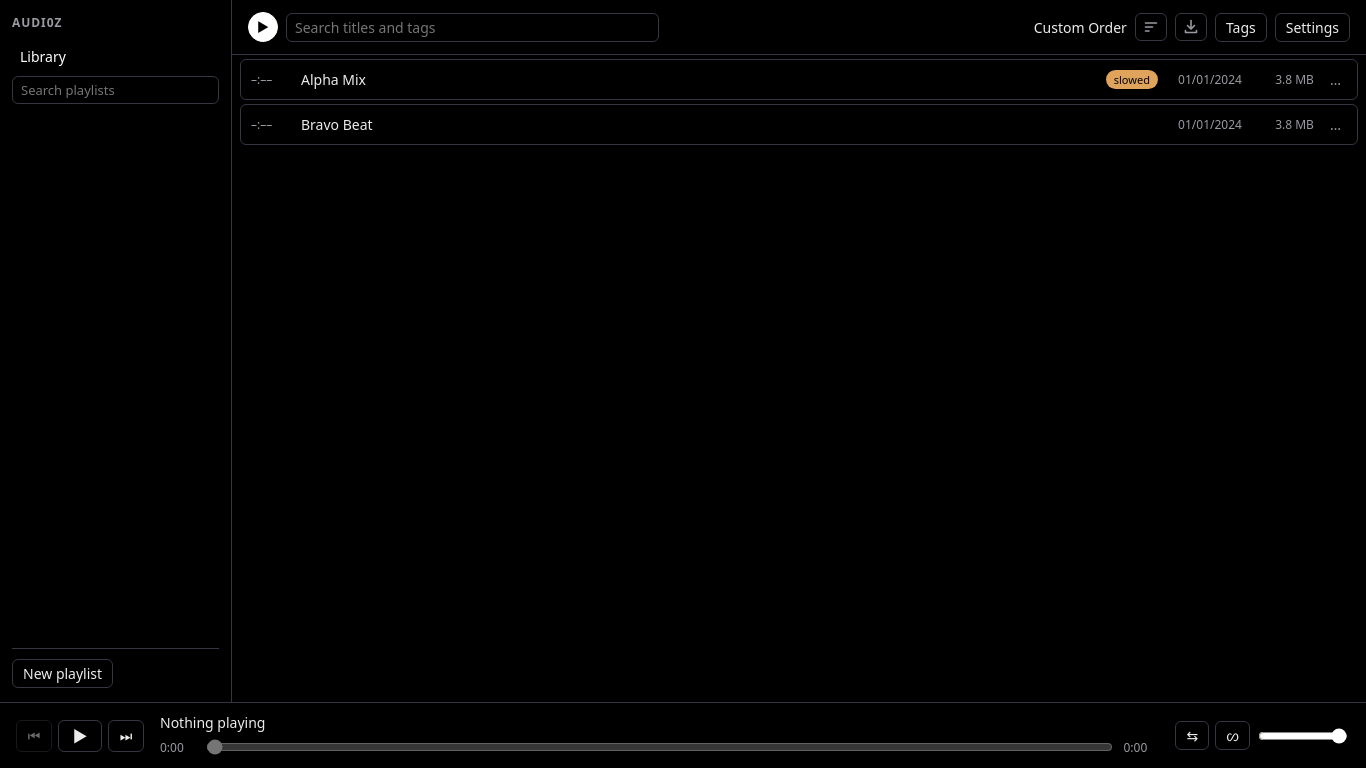
SongRow tag menu › draws the menu tag items as the same chips the row wears
The width and height of the screenshot is (1366, 768).
Click the button named "Options for Alpha Mix". click: (1335, 80)
box: left=1324, top=71, right=1347, bottom=89
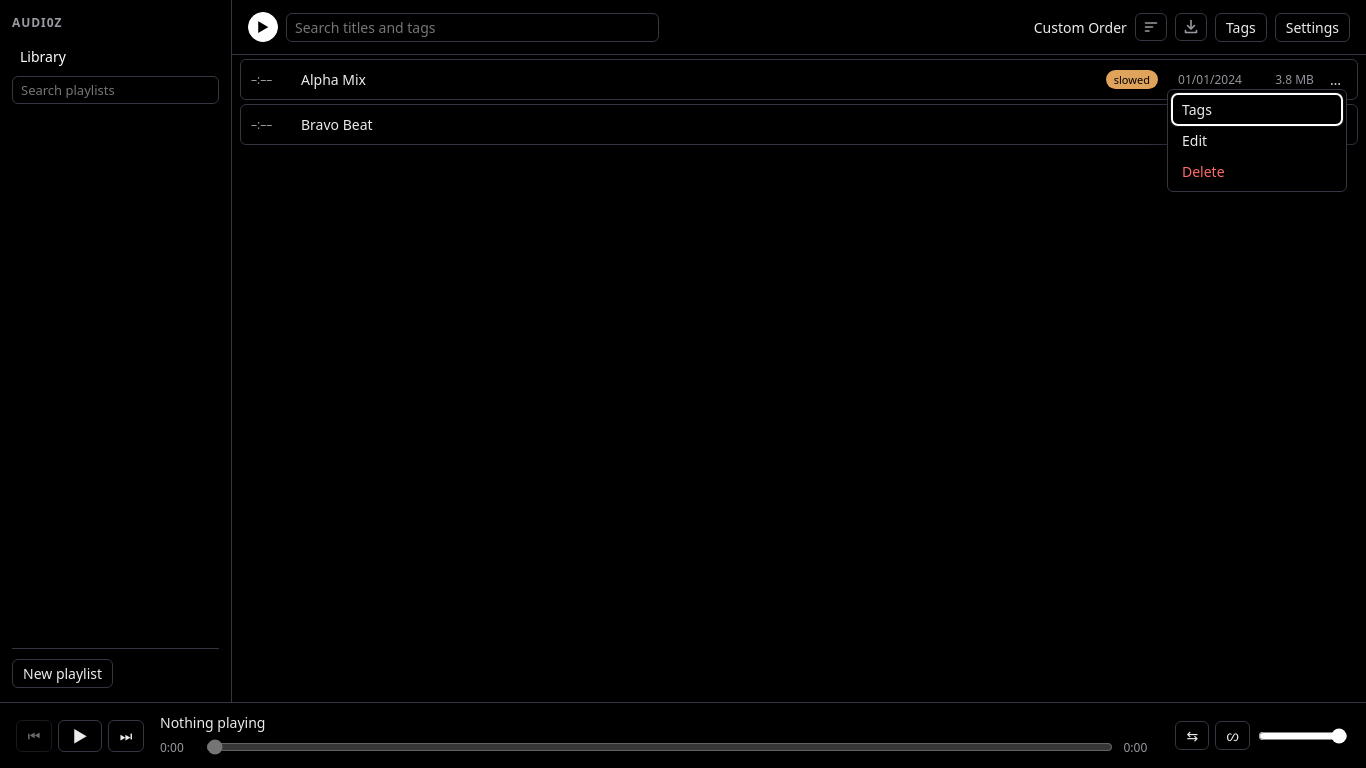
Click the menu item "Tags". click: (1257, 110)
box: left=1172, top=94, right=1342, bottom=125
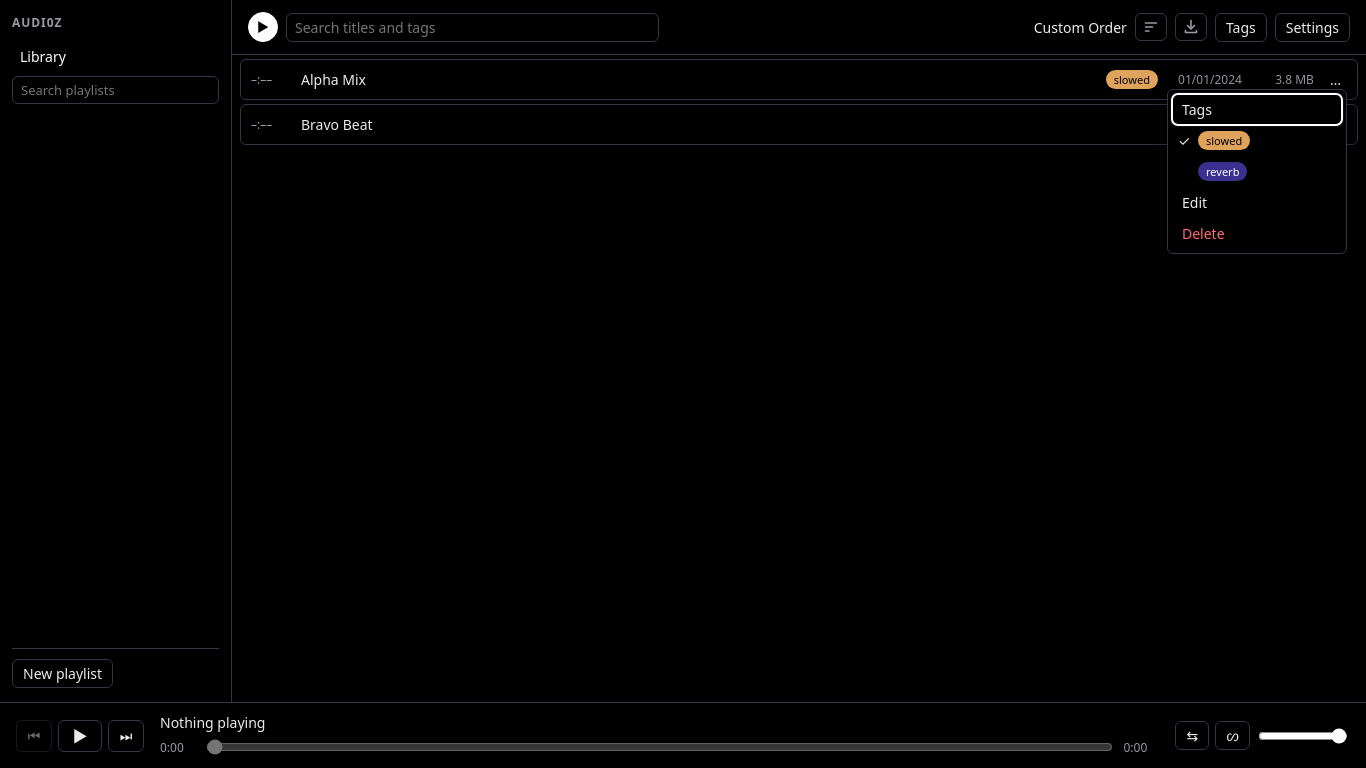
Now the menu item "✓ slowed" is shown, box left=1172, top=125, right=1342, bottom=156
